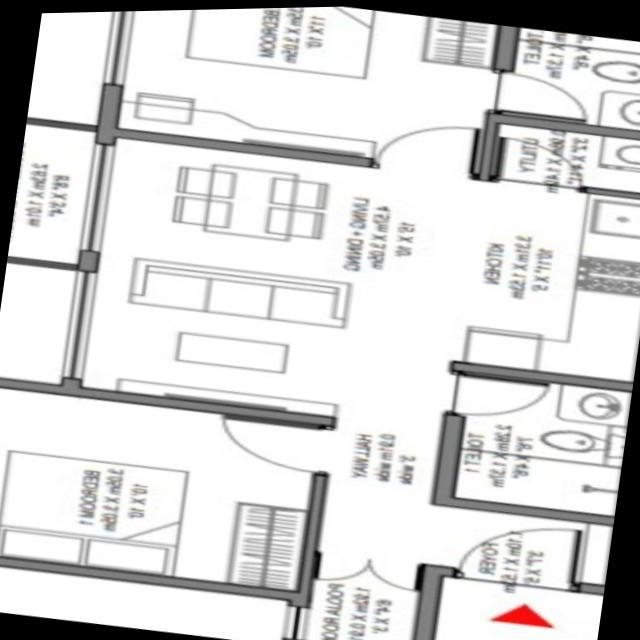Balcony-Sitout: (7, 116, 122, 272)
Bedroom: (0, 376, 337, 603)
Bedroom with Toilet: (107, 5, 640, 170)
Dining: (162, 153, 353, 250)
Enterance-Foyer: (439, 506, 591, 636)
Kitchen: (448, 172, 640, 391)
Living: (66, 243, 463, 438)
Toilet: (429, 357, 635, 527), (489, 25, 640, 140)
Utility: (480, 118, 640, 200)
